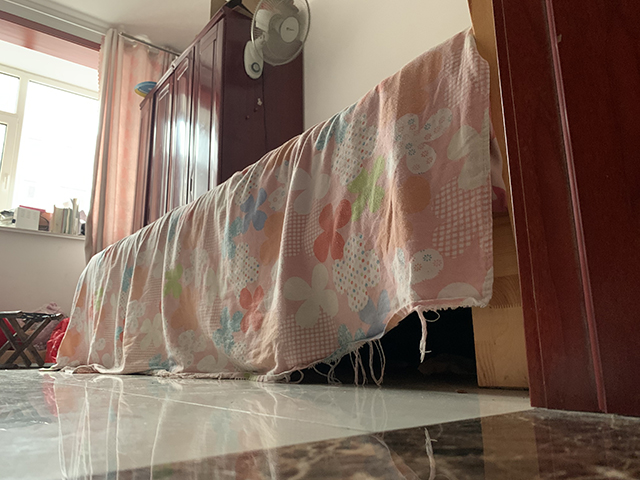bed: (43, 23, 530, 393)
curtain: (80, 25, 148, 259)
stool: (1, 308, 65, 371)
